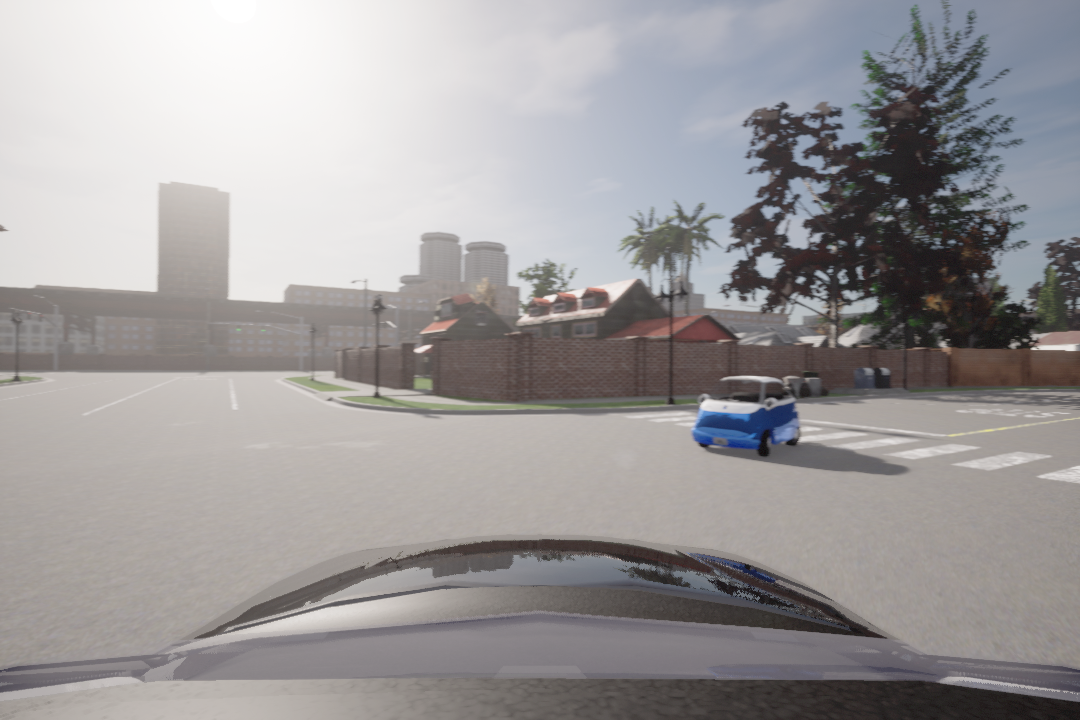walkside: (621, 412, 1080, 485)
